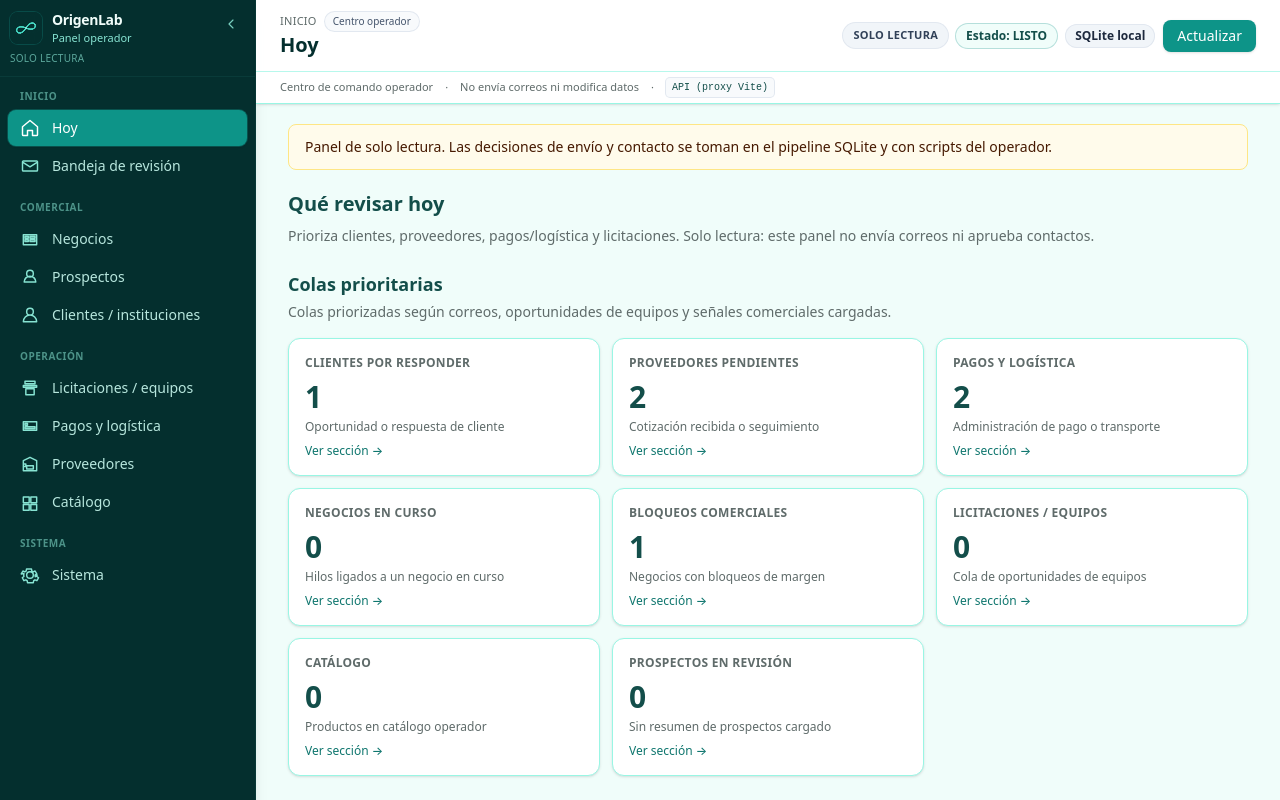
it: Dashboard UX polish (Phase 7B.3 ES) › tarjetas de Hoy en español navegan
The width and height of the screenshot is (1280, 800).
Click the button with aria-label "Proveedores pendientes:".
click(714, 362)  # box [612,338,924,476]
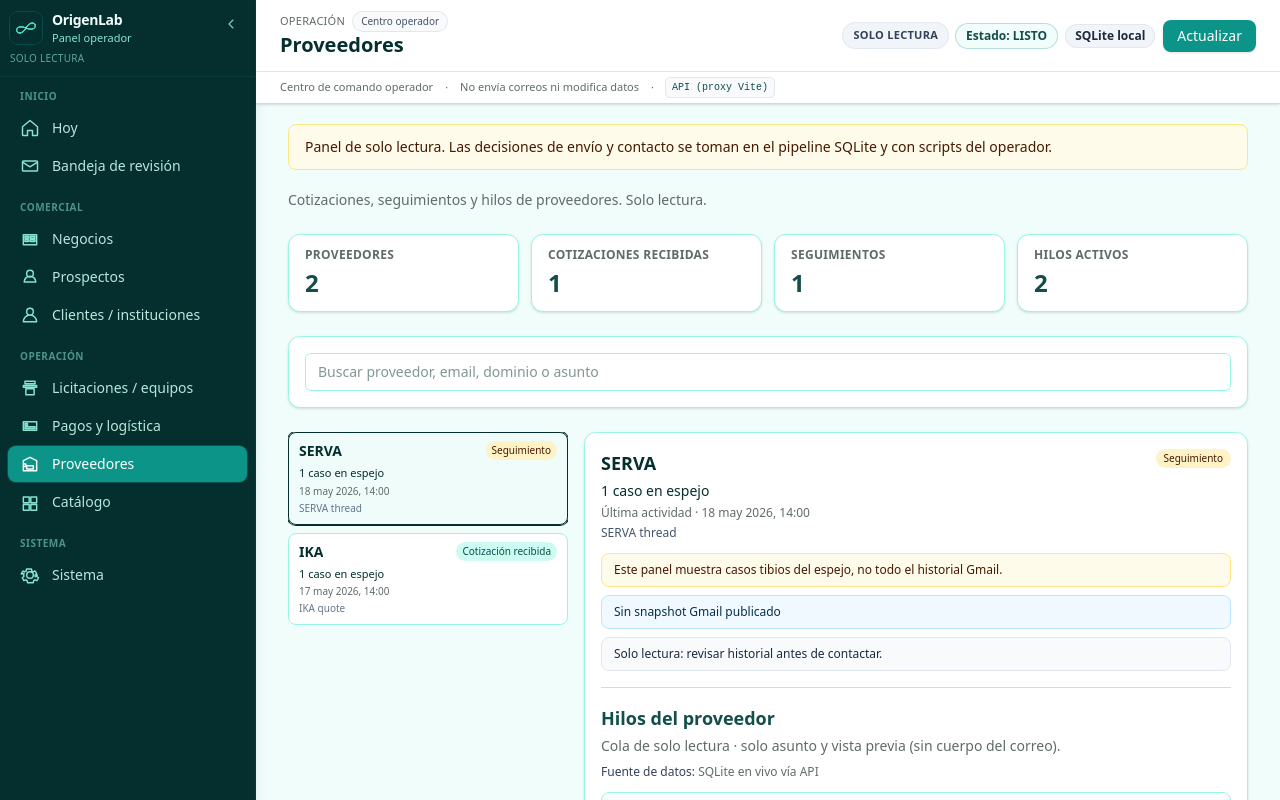
Check: the heading "Proveedores" is shown, box [280,31,404,58]
